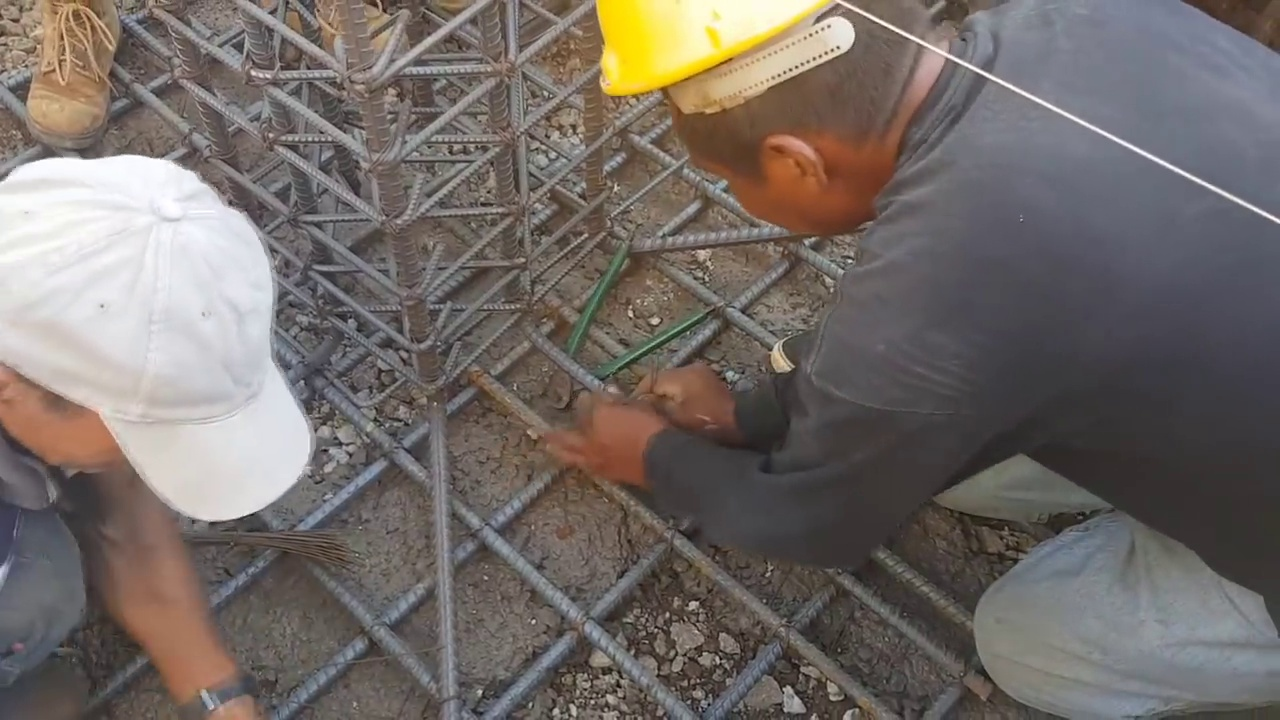helmet: (584, 4, 841, 107)
helmet-off: (15, 159, 298, 490)
helmet-on: (578, 0, 961, 255)
person: (528, 0, 1280, 720), (0, 154, 348, 716)
